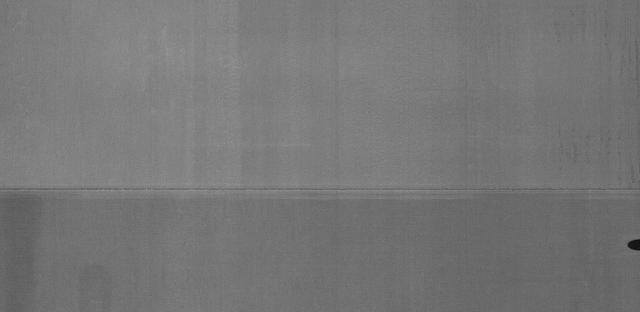punching_hole: (623, 236, 640, 254)
welding_line: (2, 181, 640, 209)
